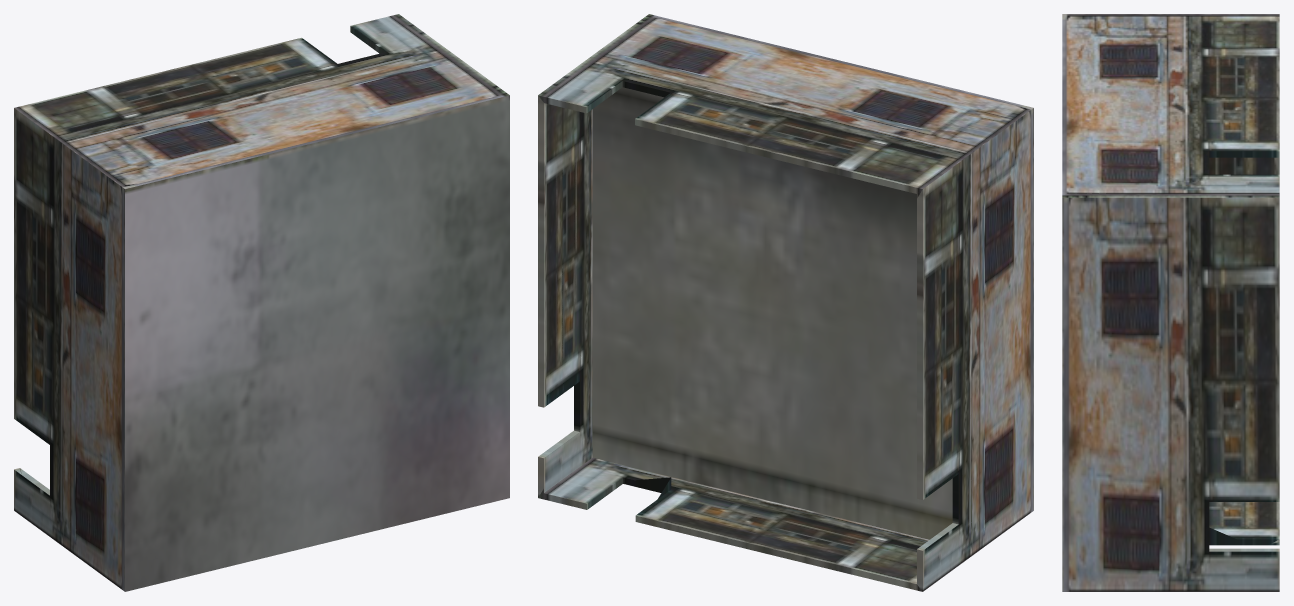
Rendered from 8x8NSEW_corners_wtf.obj.
3 views of the same model, side by side, from view 1: azimuth 30°, elevation 25°; view 2: azimuth 150°, elevation 25°; view 3: azimuth 270°, elevation 25° (orthographic). The views are drawn at different scales.
Parts seen in each view (by area): view 1: group2; view 2: group2; view 3: group2.
Boxes of the visible parts, <box> form: group2: <box>14,14,509,591</box>; group2: <box>538,14,1033,591</box>; group2: <box>1062,14,1279,591</box>.
Size of the model in its own units: 660 by 660 by 330.
